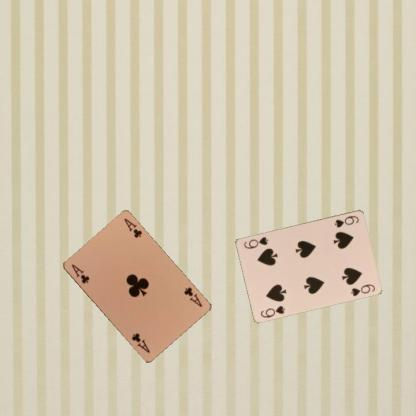6s: (258, 303, 287, 319), (332, 212, 360, 228)
Ac: (68, 261, 91, 285), (181, 284, 203, 309)
